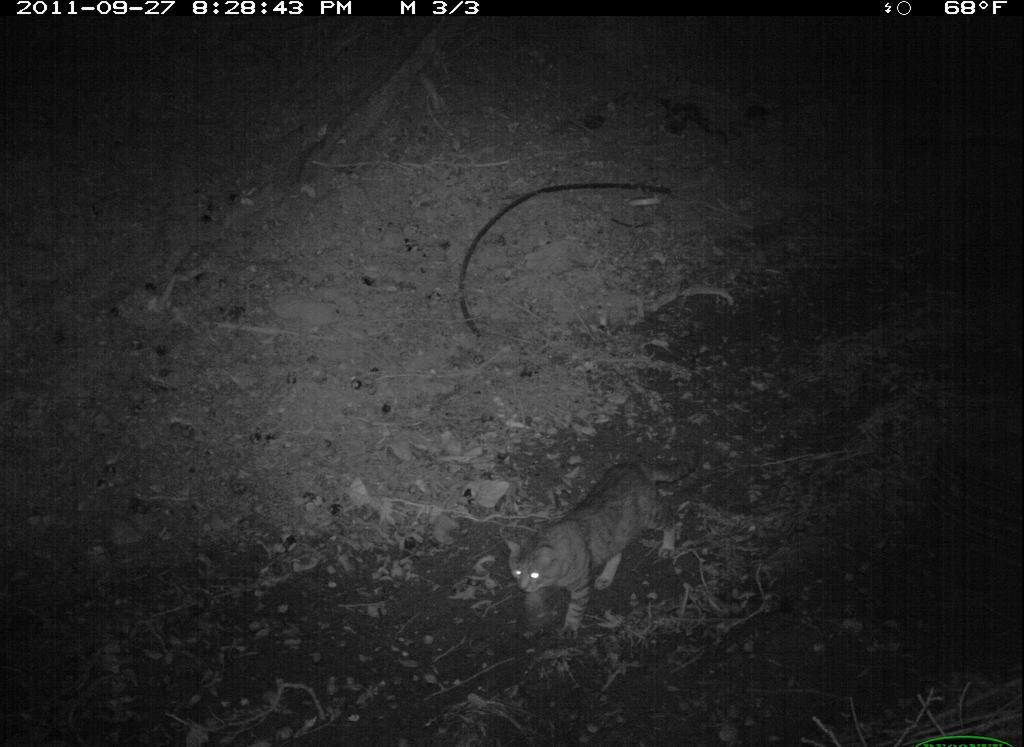cat: (504, 450, 702, 644)
